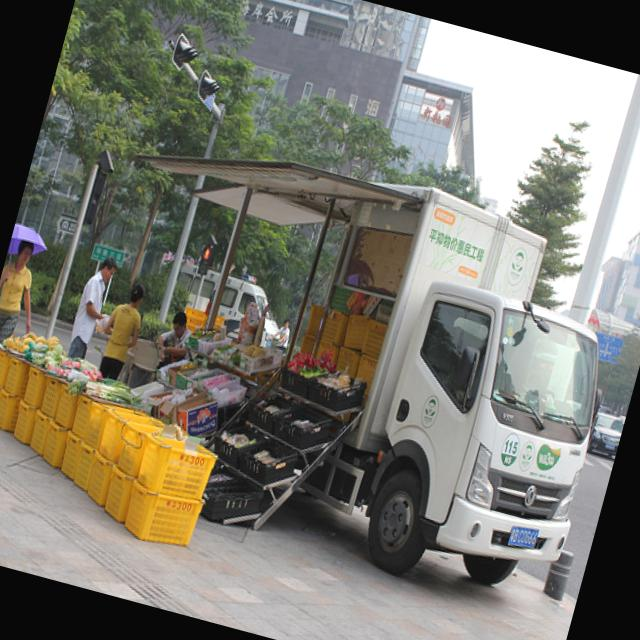Vehicle: (51, 113, 640, 616), (145, 250, 292, 352), (587, 410, 625, 458)
